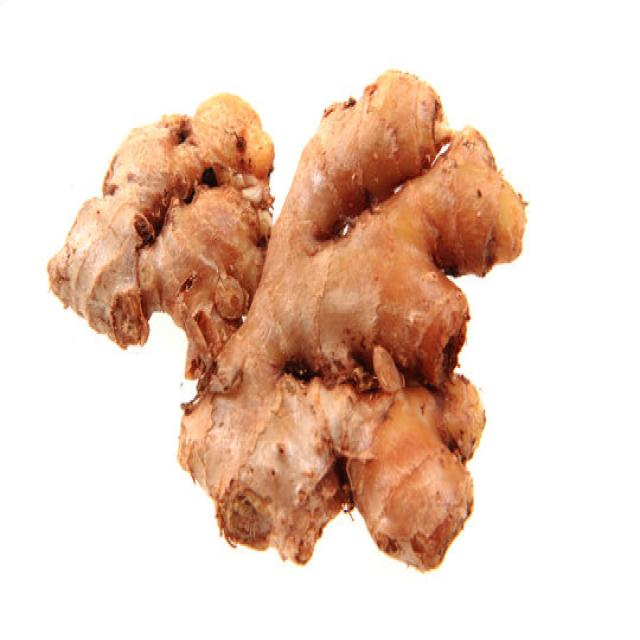Ginger: (46, 68, 528, 572)
